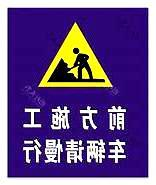sign: (8, 8, 147, 176)
